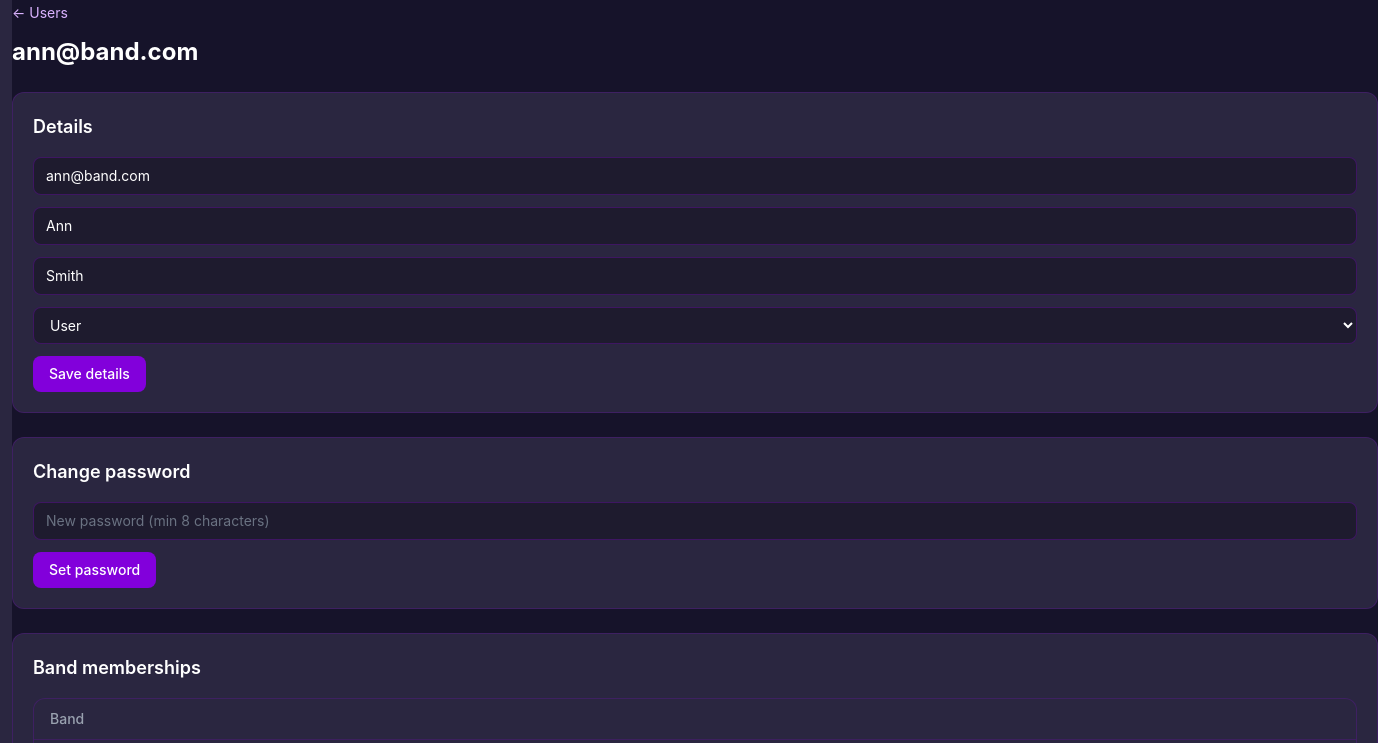
Test: UserDetailPage change password › rejects a short password client-side
Type "short" into the password field labelled "New password".
click(695, 521); type("short")  # box [33, 502, 1357, 540]
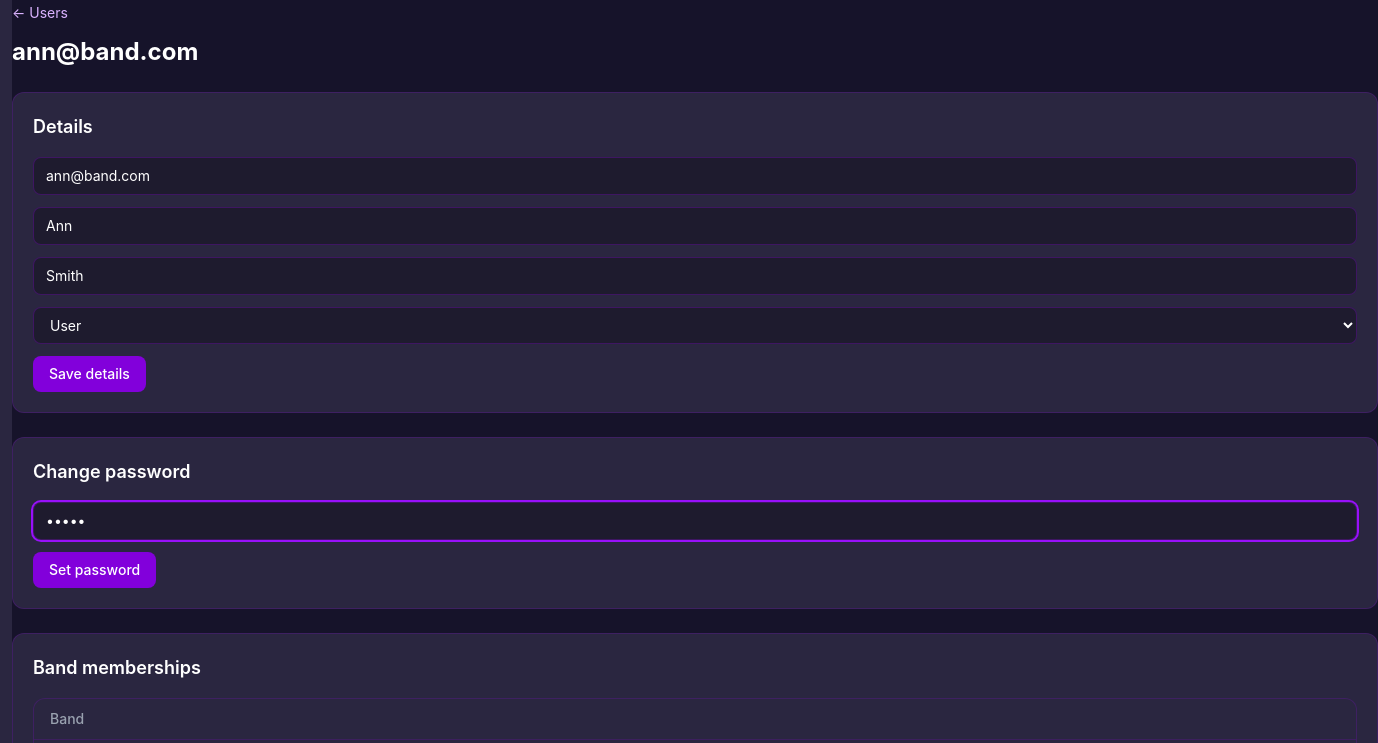
Click the button "Set password".
click(95, 570)  # box [33, 552, 156, 588]
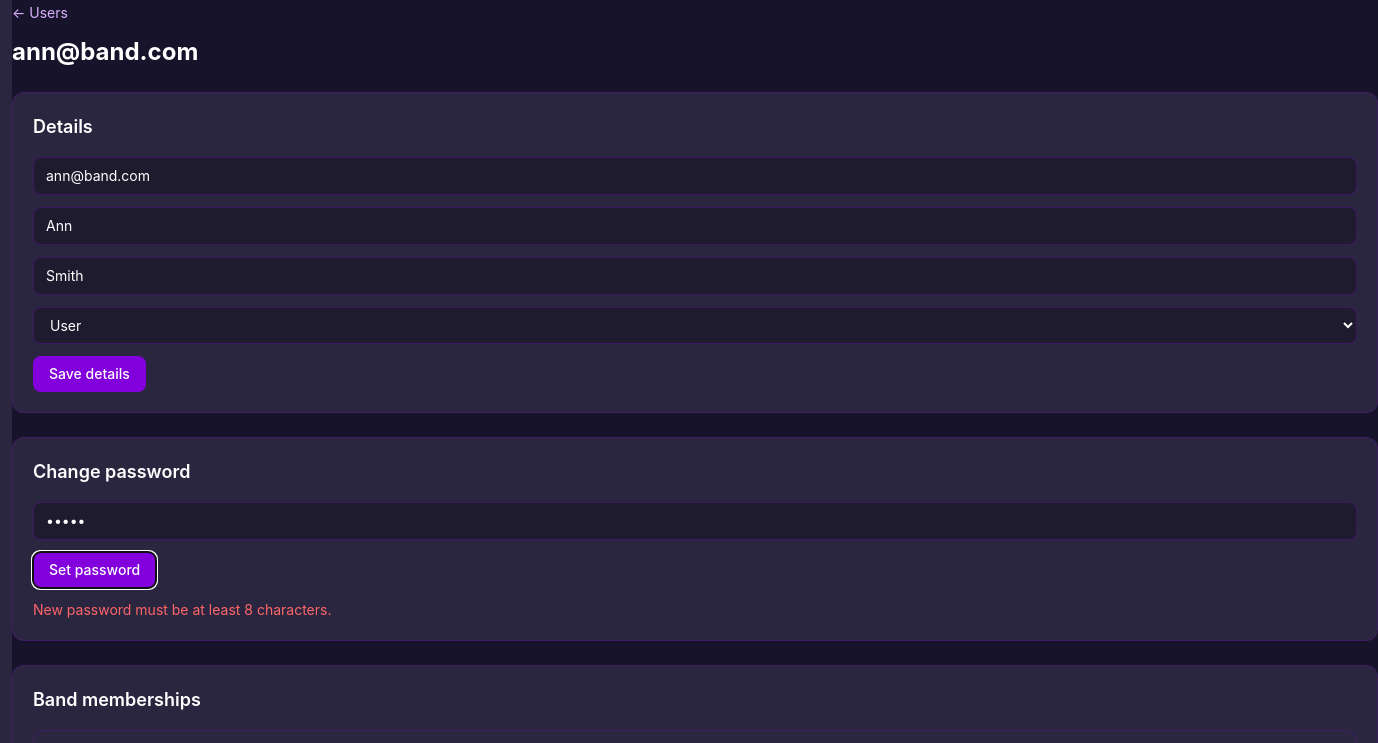
Expected: the text "New password must be at least 8 characters." is shown, [33, 601, 332, 618]
